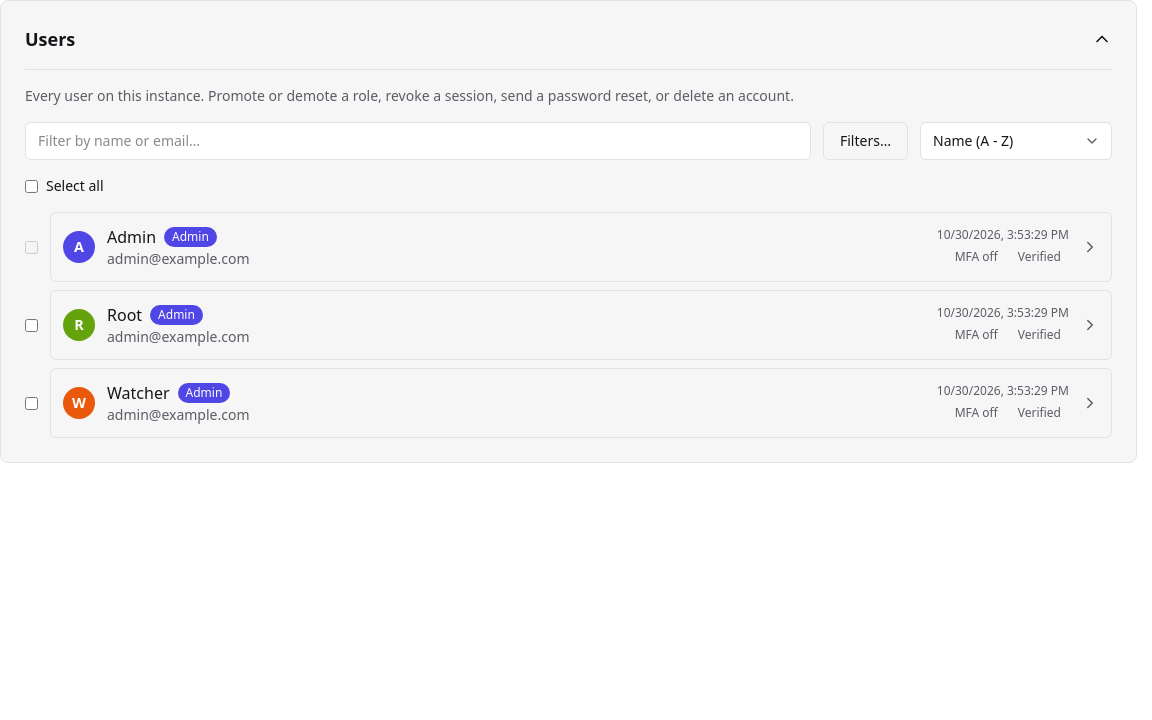
Scenario: UsersPanel › shows an indeterminate select-all state with a partial selection
Check: the text "Watcher" is shown, box [107,381,170,405]
Click the checkbox named "Select Watcher" in the row of "Watcher" at (32, 403), box [25,396,38,410]
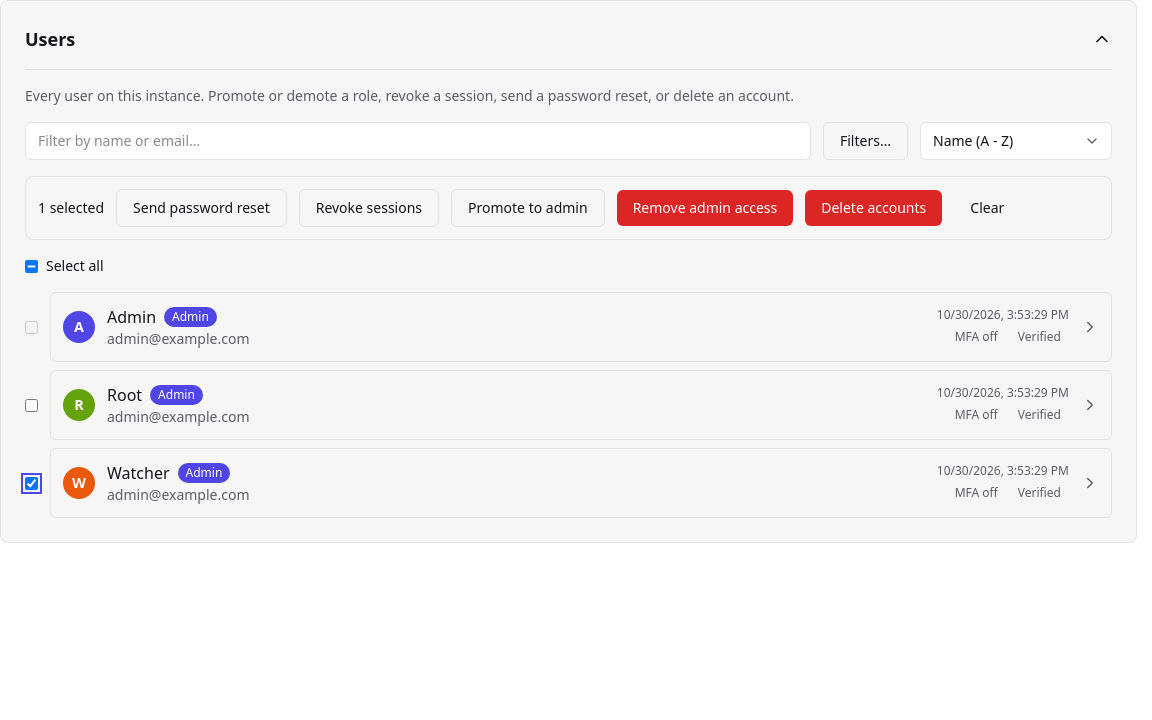
Check: the checkbox labelled "Select all" is not checked, box [25,260,38,272]
Click the checkbox named "Select Root" in the row of "Root" at (32, 405), box [25,398,38,412]
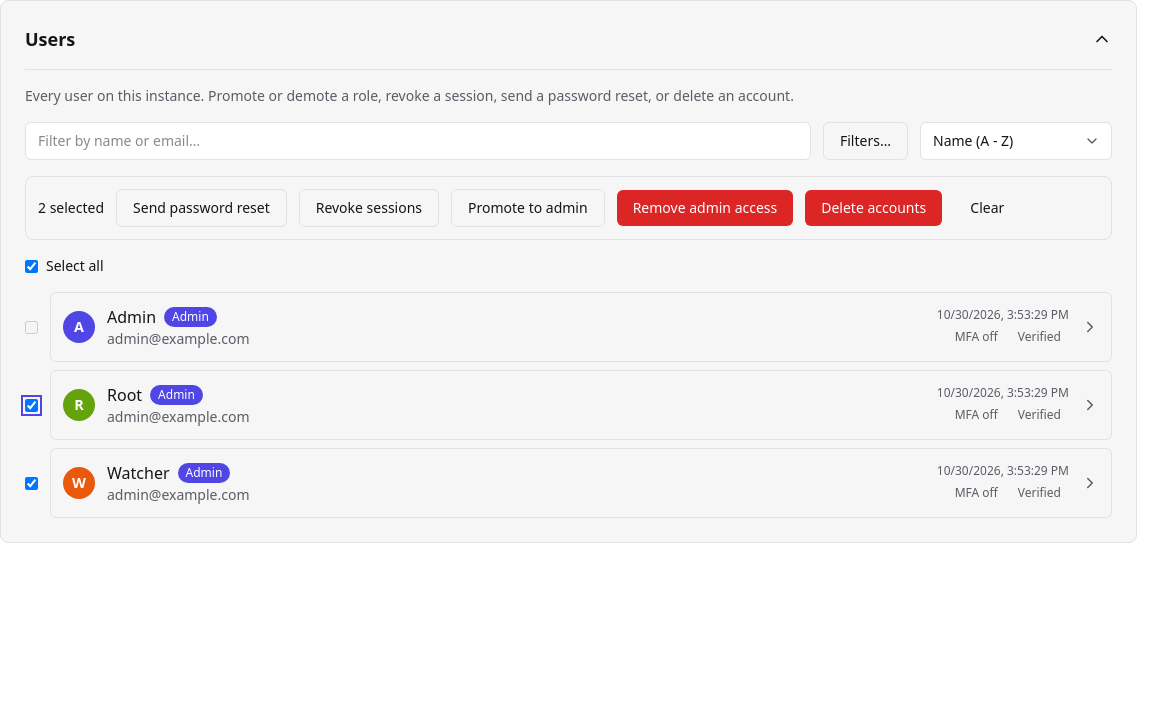
Check: the checkbox labelled "Select all" is checked, box [25,260,38,272]
